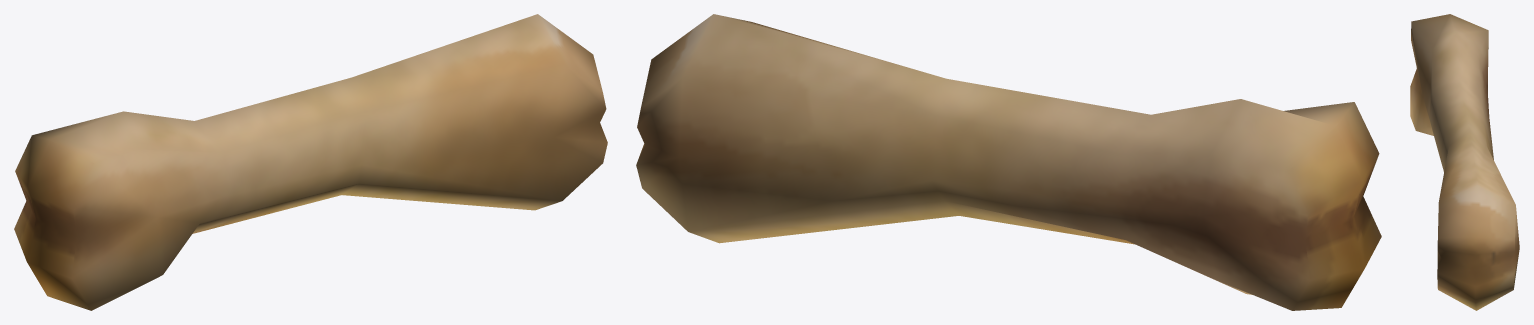
Rendered from skeleton.014.fbx.
The picture shows the model from 3 angles, left to right: view 1: azimuth 30°, elevation 25°; view 2: azimuth 150°, elevation 25°; view 3: azimuth 270°, elevation 25°; orthographic projection. The views are drawn at different scales.
Parts seen in each view (by area): view 1: skeleton.014; view 2: skeleton.014; view 3: skeleton.014.
Boxes of the visible parts, <box> form: skeleton.014: <box>14,14,607,310</box>; skeleton.014: <box>636,14,1381,310</box>; skeleton.014: <box>1410,14,1519,310</box>.
Size of the model in its own units: 39.81 by 13.8 by 9.74.
